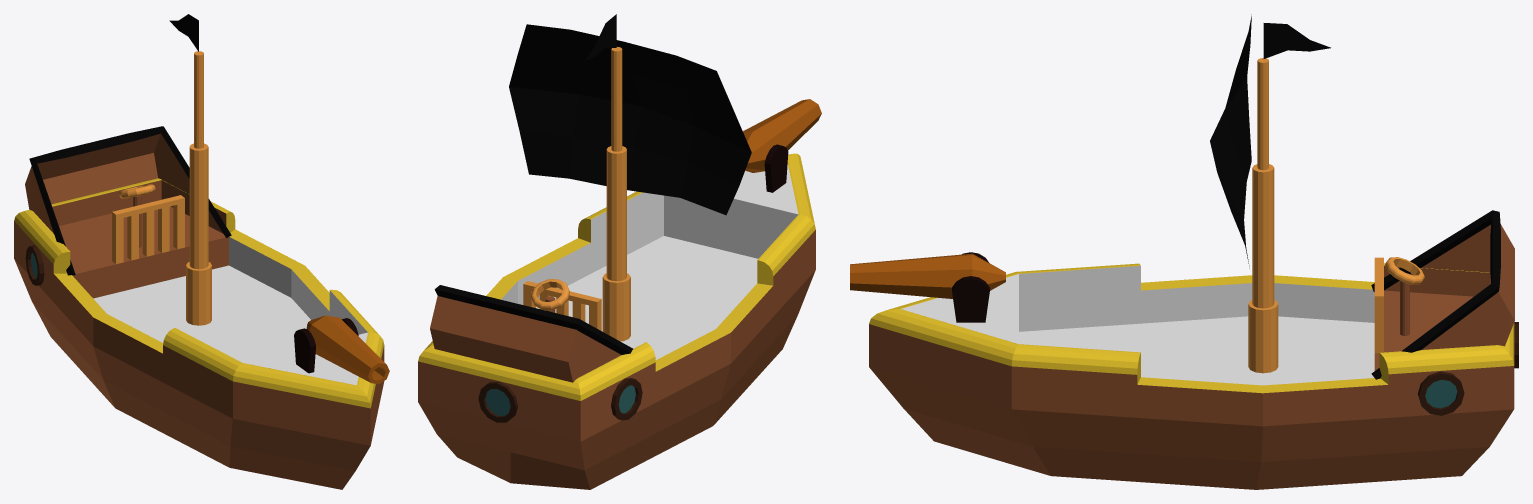
The model's file is boat-transformed.glb.
The picture shows the model from 3 angles, left to right: view 1: azimuth 30°, elevation 25°; view 2: azimuth 150°, elevation 25°; view 3: azimuth 270°, elevation 25°; orthographic projection. The views are drawn at different scales.
Visible parts, largest first — view 1: bote, Cube, flag_obj, canon, Cube.001, Cube.002, ventanas, volante, flag; view 2: bote, big_flag, Cube, flag_obj, canon, Cube.002, ventanas, Cube.001, volante, flag; view 3: bote, Cube, flag_obj, canon, big_flag, Cube.002, ventanas, flag, volante, Cube.001.
Part boxes in pixels (x1,y1,x2,y2): bote: (14,178,384,489); Cube: (25,133,228,298); flag_obj: (186,51,211,325); canon: (294,315,389,384); Cube.001: (112,195,184,264); Cube.002: (29,126,231,275); ventanas: (25,245,44,285); volante: (119,184,155,247); flag: (169,14,198,51); bote: (418,153,815,489); big_flag: (509,24,751,215); Cube: (430,296,621,382); flag_obj: (602,47,630,341); canon: (743,99,821,192); Cube.002: (434,285,632,354); ventanas: (478,378,642,422); Cube.001: (523,281,601,330); volante: (531,279,569,312); flag: (585,14,616,60); bote: (869,263,1514,489); Cube: (1374,224,1514,370); flag_obj: (1248,58,1278,373); canon: (850,252,1005,322); big_flag: (1210,14,1251,268); Cube.002: (1371,210,1500,379); ventanas: (1418,322,1518,415); flag: (1263,23,1330,58); volante: (1385,257,1424,335); Cube.001: (1374,257,1383,353).
Bounding box in the file's own units: 3.36 × 5.06 × 7.33.
